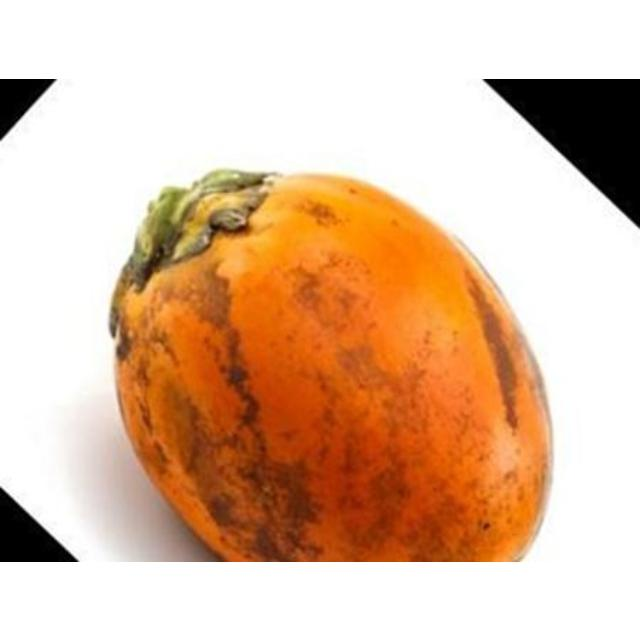good: (110, 169, 555, 560)
